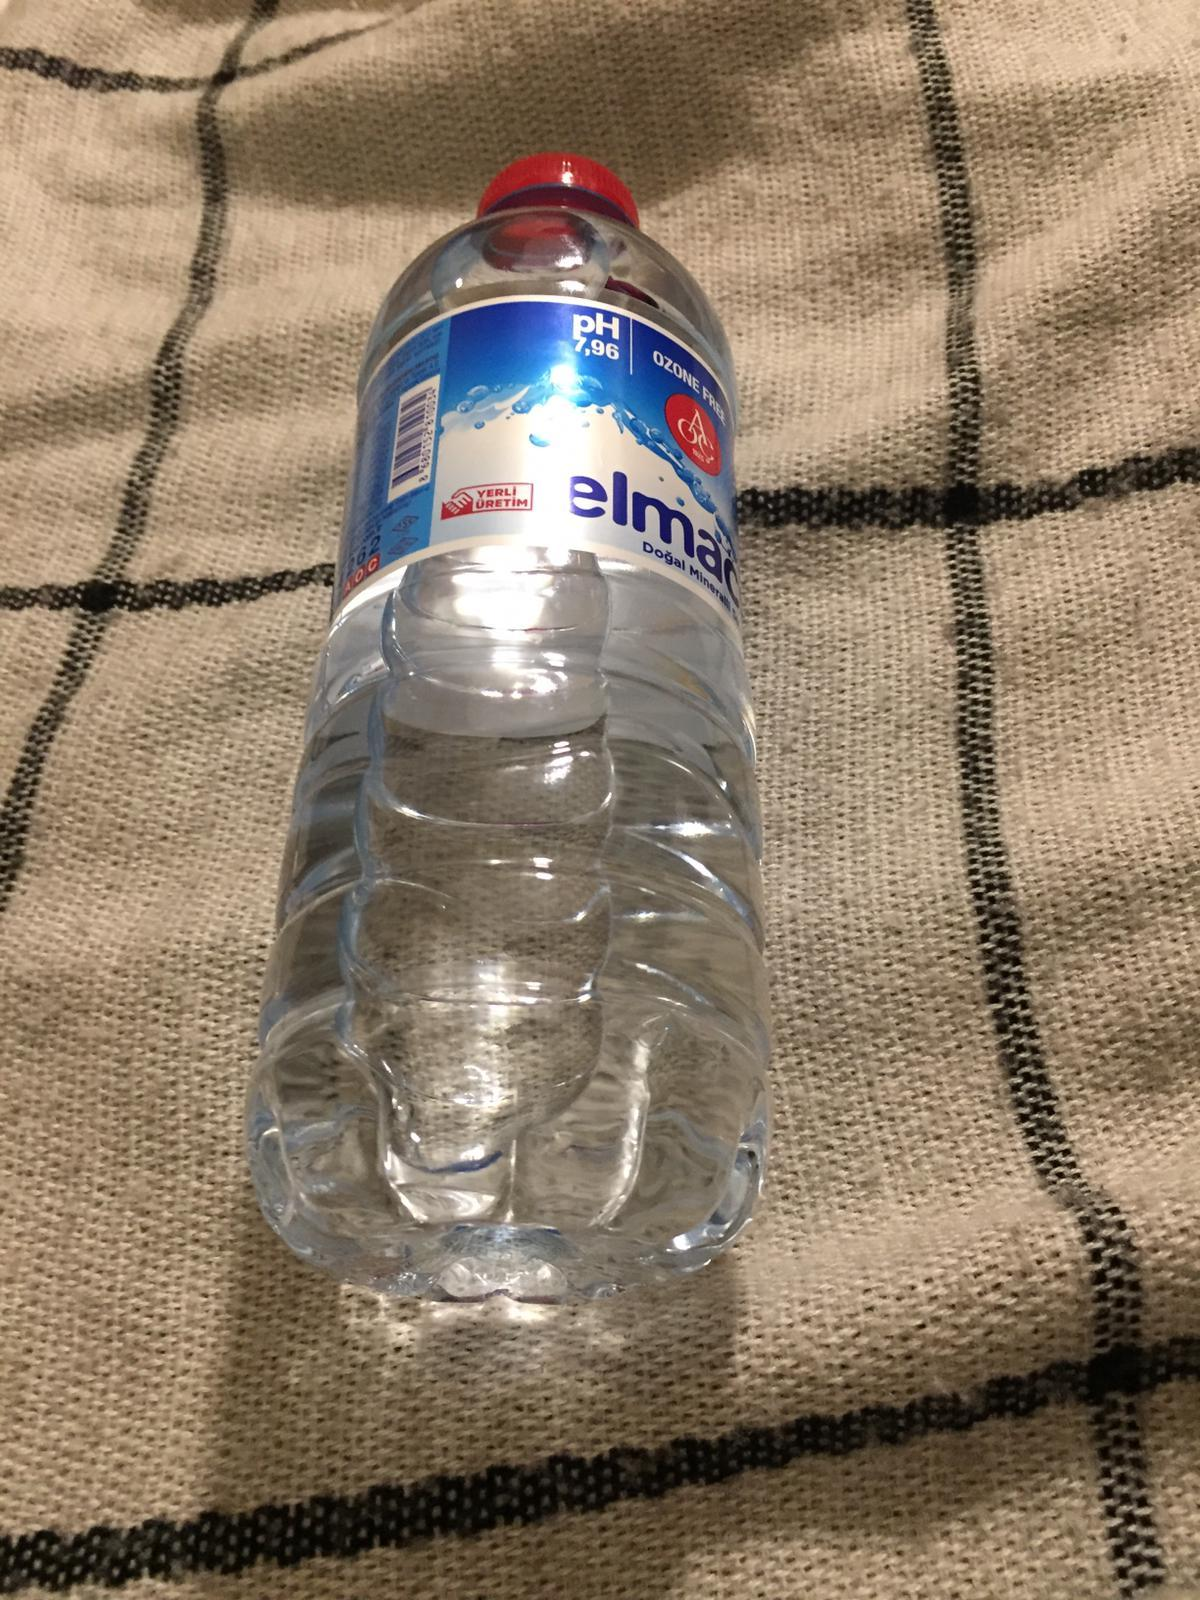bottle: (251, 151, 770, 1313)
